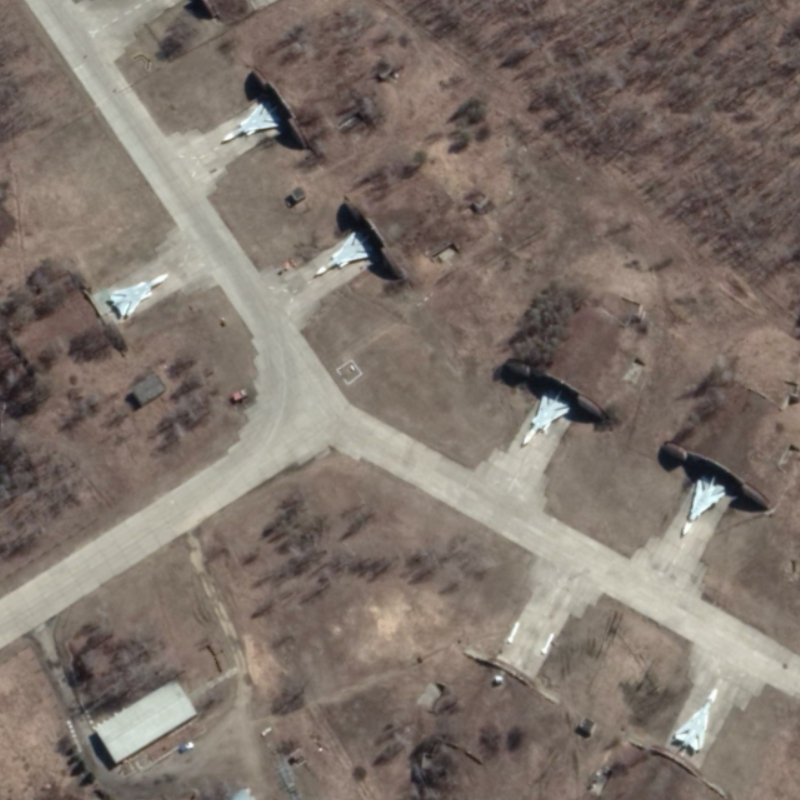A20: (672, 687, 720, 753), (520, 388, 573, 446), (681, 474, 728, 536), (314, 230, 375, 277), (109, 272, 170, 317), (221, 100, 282, 143)
